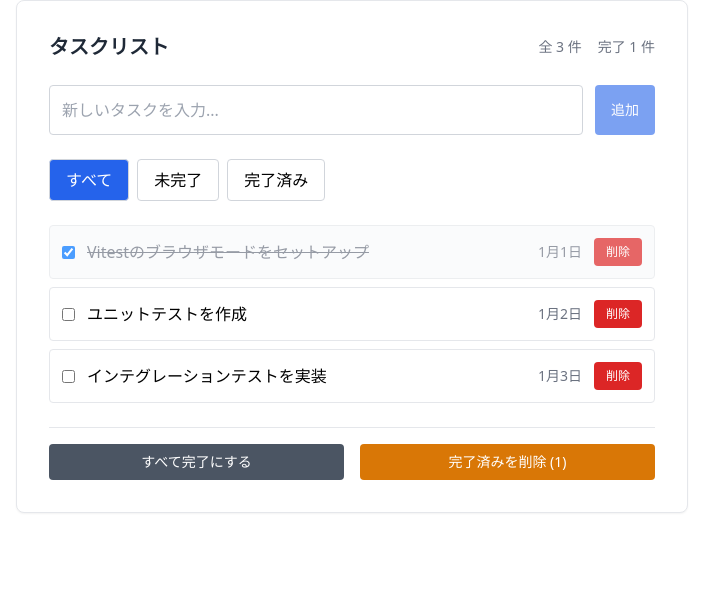
Test case: TaskList コンポーネント › タスク追加機能 › 新しいタスクを追加できる
This screenshot has width=705, height=592.
In the field with test id "new-task-input": (316, 110) 49,85 -> 583,135, type "新しいタスク"
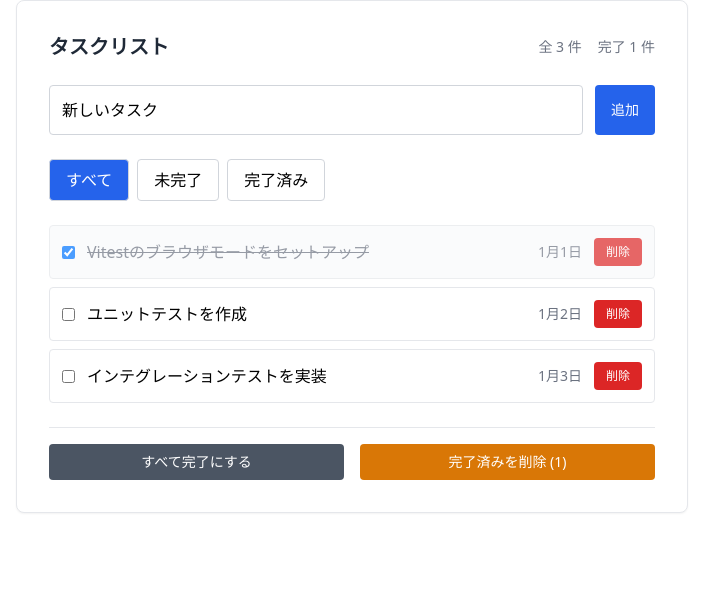
Click the button with test id "add-task-btn": (625, 110) 595,85 -> 655,135
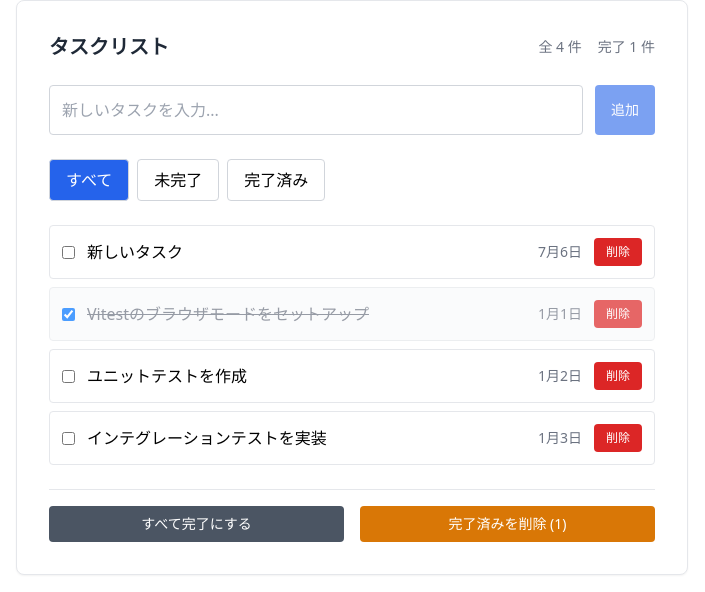
Check: the label with test id "task-label-" reads "新しいタスク", box 87,241 -> 183,263
Check: the text with test id "total-tasks" reads "全 4 件", box 538,37 -> 582,56
